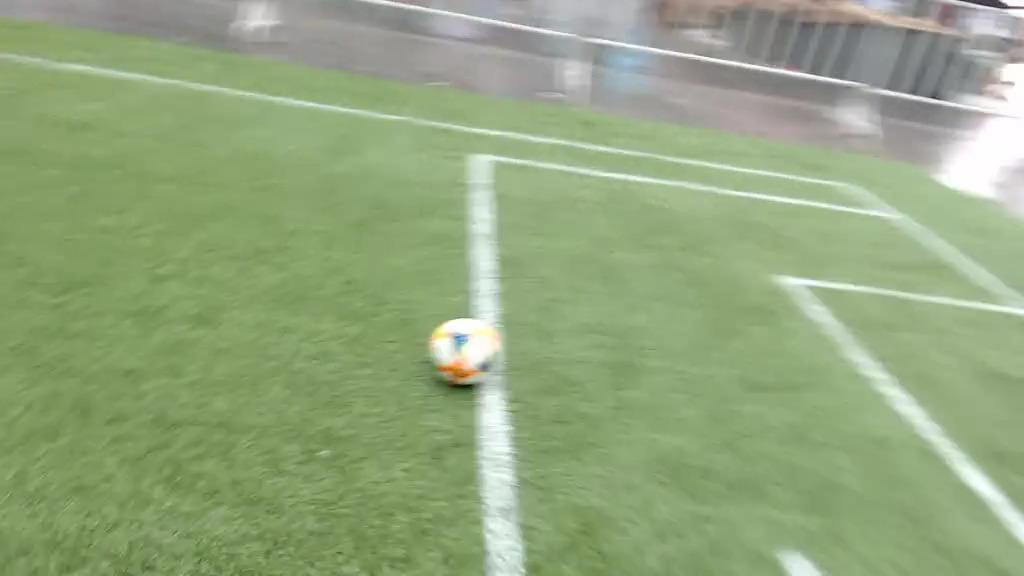ball: (421, 301, 510, 393)
